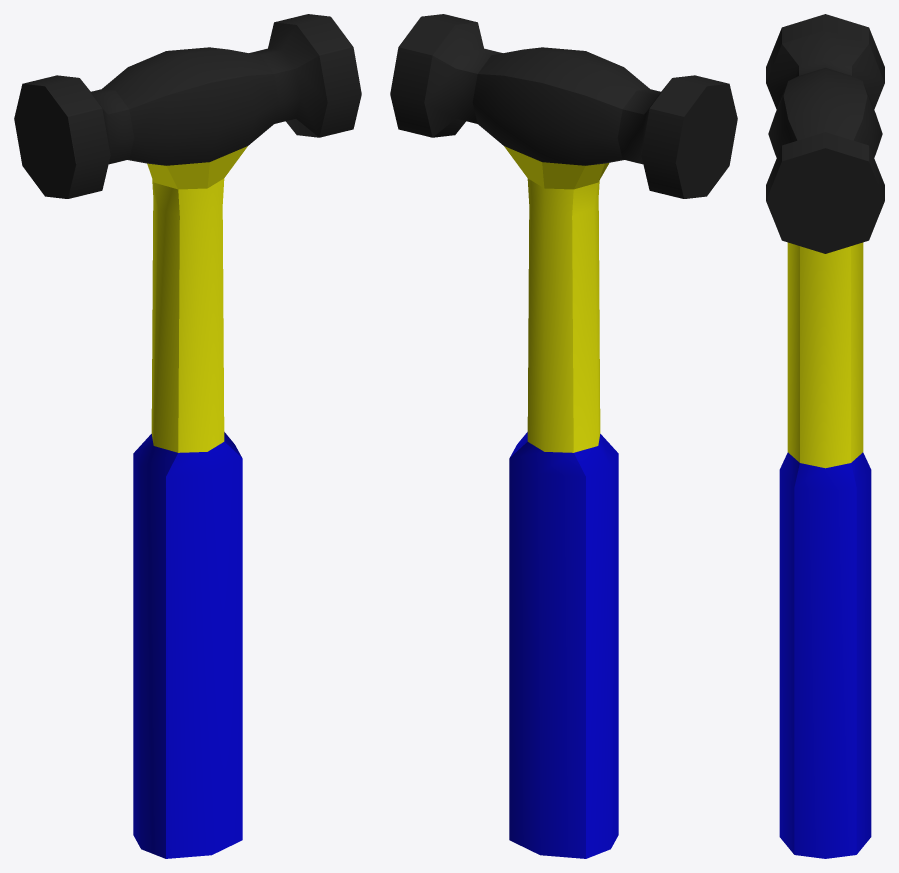
File: Hammer_obj_Mesh_export.obj
3 renders of one model, left to right at view 1: azimuth 30°, elevation 25°; view 2: azimuth 150°, elevation 25°; view 3: azimuth 270°, elevation 25°, orthographic. The views are drawn at different scales.
Visible parts, largest first — view 1: pCube3; view 2: pCube3; view 3: pCube3.
Part boxes in pixels (<box>): pCube3: <box>14,14,361,858</box>; pCube3: <box>390,14,737,858</box>; pCube3: <box>766,14,884,858</box>.
Bounding box in the file's own units: 5.09 × 13.39 × 1.91.
